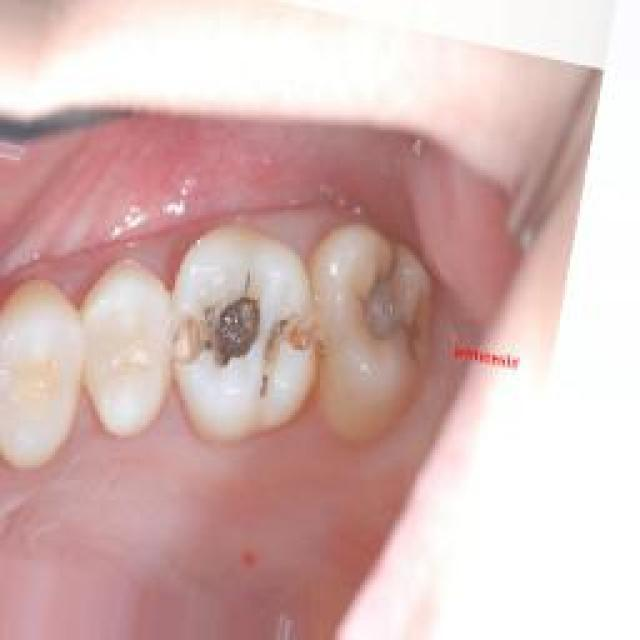caries: (198, 277, 291, 395), (358, 253, 431, 378)
